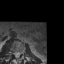CCS_normal: (16, 50, 18, 59)
LFS_normal: (20, 49, 22, 56)
LLS_normal: (18, 49, 20, 58)
RFS_stenosis: (12, 49, 14, 56)
RLS_normal: (14, 50, 16, 58)
